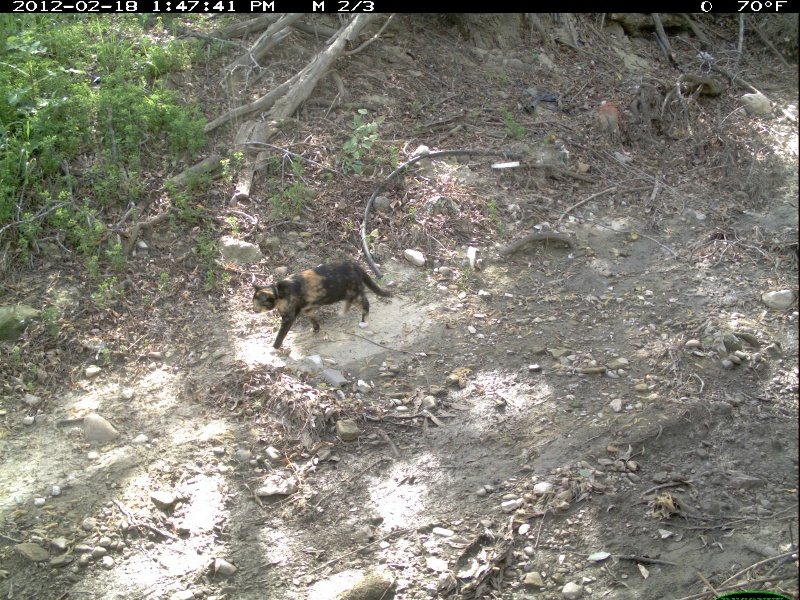cat: (249, 259, 393, 353)
